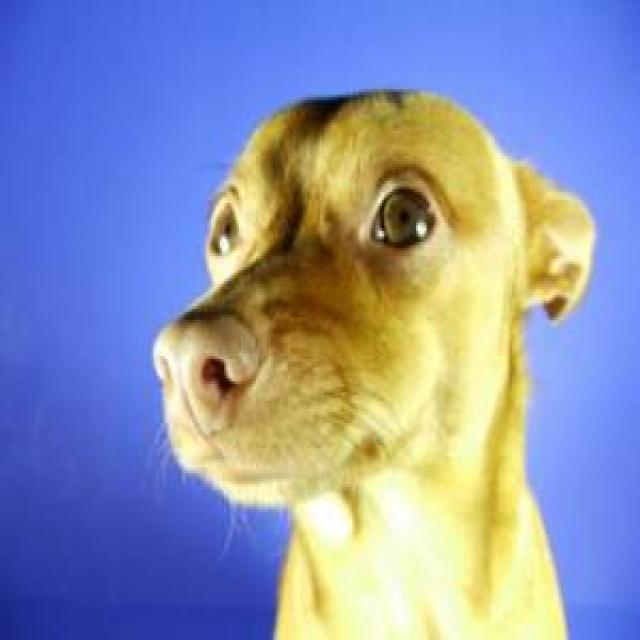dog-miniature_pinscher: (147, 67, 597, 634)
